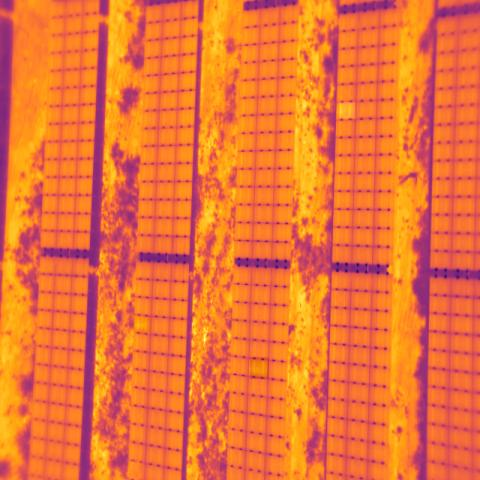fault: (250, 357, 269, 379), (133, 316, 151, 333), (339, 102, 355, 118)
